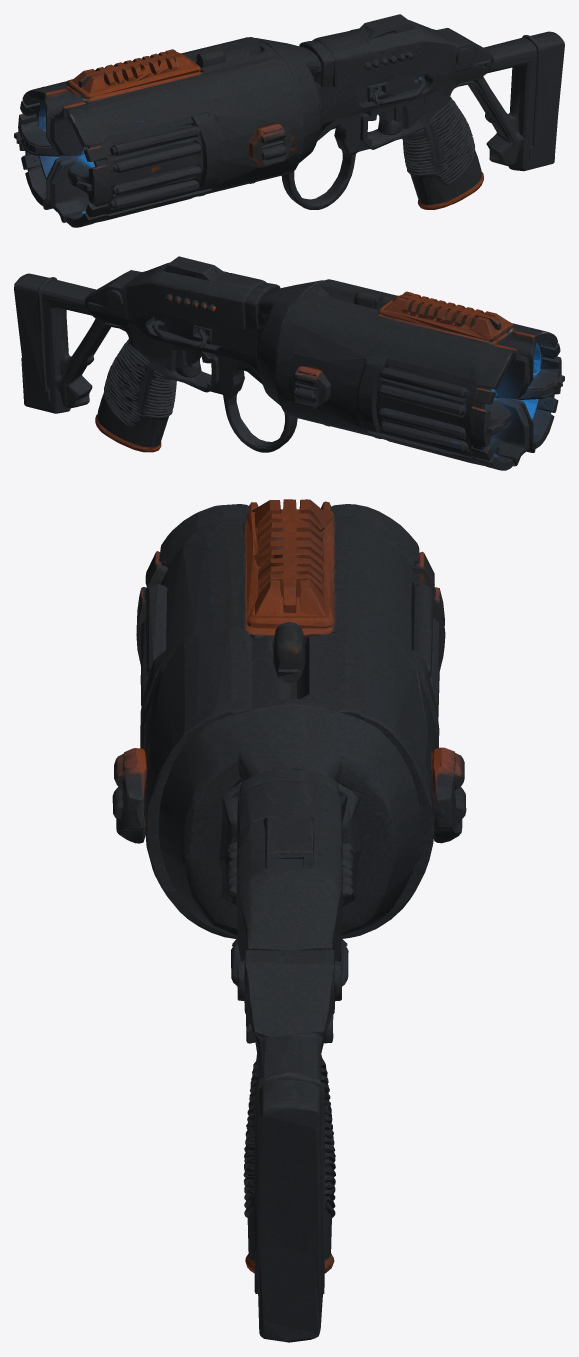
File: arc_scattergun_meshy_raw.glb
3 renders of one model, top to bottom at view 1: azimuth 30°, elevation 25°; view 2: azimuth 150°, elevation 25°; view 3: azimuth 270°, elevation 25°, orthographic. The views are drawn at different scales.
Bounding box in the file's own units: 1.9 × 0.7638 × 0.5688.
Materials: 1 (1 with a texture image).
